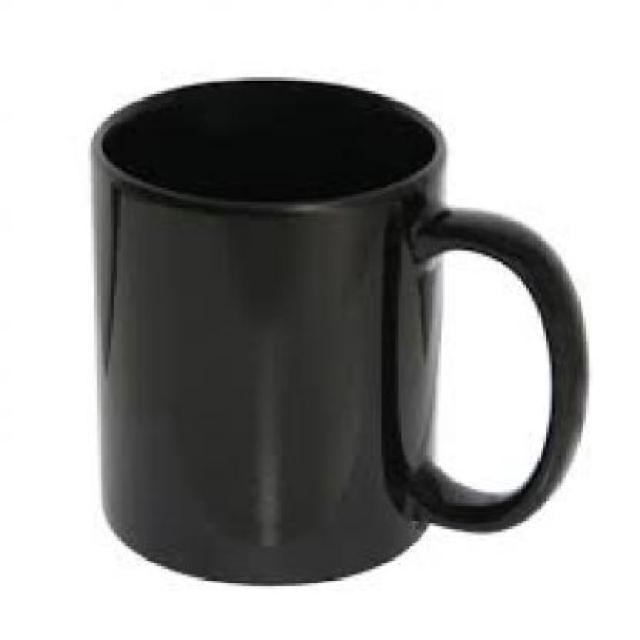cup: (72, 66, 595, 598)
